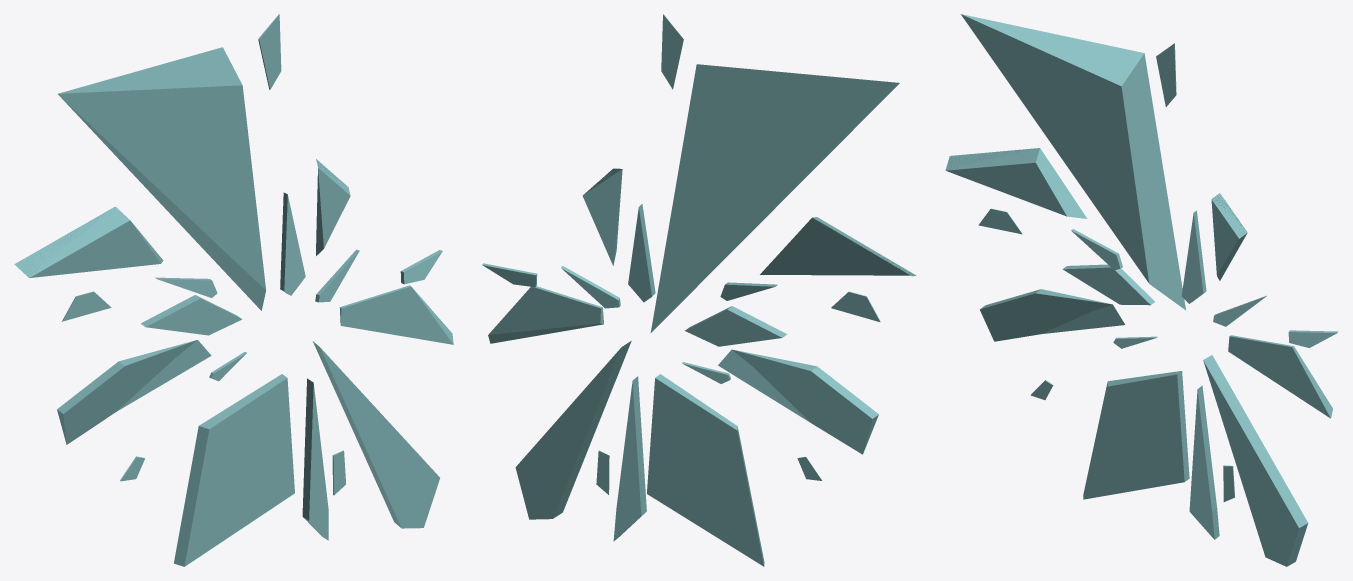
Rendered from fragmento.fbx.
The picture shows the model from 3 angles, left to right: view 1: azimuth 30°, elevation 25°; view 2: azimuth 150°, elevation 25°; view 3: azimuth 330°, elevation 25°; orthographic projection. The views are drawn at different scales.
Parts seen in each view (by area): view 1: Cube, Cube.001, Cube.010, Cube.007, Cube.003, Cube.016, Cube.009, Cube.004, Cube.002, Cube.005, Cube.017, Cube.015 (+3 smaller); view 2: Cube, Cube.001, Cube.010, Cube.007, Cube.003, Cube.016, Cube.009, Cube.004, Cube.002, Cube.005, Cube.017, Cube.015 (+3 smaller); view 3: Cube, Cube.001, Cube.010, Cube.003, Cube.007, Cube.016, Cube.009, Cube.004, Cube.002, Cube.005, Cube.017, Cube.006 (+3 smaller).
Part boxes in pixels (<box>): Cube: <box>58,47,265,310</box>; Cube.001: <box>174,374,294,566</box>; Cube.010: <box>312,341,439,528</box>; Cube.007: <box>57,340,211,444</box>; Cube.003: <box>14,206,163,277</box>; Cube.016: <box>339,285,453,344</box>; Cube.009: <box>302,378,328,540</box>; Cube.004: <box>141,295,241,335</box>; Cube.002: <box>316,159,350,255</box>; Cube.005: <box>280,192,305,295</box>; Cube.017: <box>258,14,281,89</box>; Cube.015: <box>61,291,111,321</box>; Cube: <box>650,64,899,332</box>; Cube.001: <box>647,374,764,566</box>; Cube.010: <box>515,340,631,519</box>; Cube.007: <box>718,349,878,454</box>; Cube.003: <box>760,217,916,276</box>; Cube.016: <box>488,286,603,343</box>; Cube.009: <box>613,376,646,541</box>; Cube.004: <box>685,306,787,346</box>; Cube.002: <box>582,168,622,265</box>; Cube.005: <box>628,204,655,302</box>; Cube.017: <box>661,14,683,89</box>; Cube.015: <box>831,291,880,322</box>; Cube: <box>961,14,1185,310</box>; Cube.001: <box>1083,371,1189,499</box>; Cube.010: <box>1203,355,1308,566</box>; Cube.003: <box>945,148,1087,218</box>; Cube.007: <box>979,289,1124,341</box>; Cube.016: <box>1228,335,1332,418</box>; Cube.009: <box>1189,385,1219,539</box>; Cube.004: <box>1062,264,1154,305</box>; Cube.002: <box>1211,193,1247,280</box>; Cube.005: <box>1181,210,1206,303</box>; Cube.017: <box>1156,43,1176,106</box>; Cube.006: <box>1071,229,1122,270</box>.
Size of the model in its own units: 60.05 by 71.8 by 6.48.
